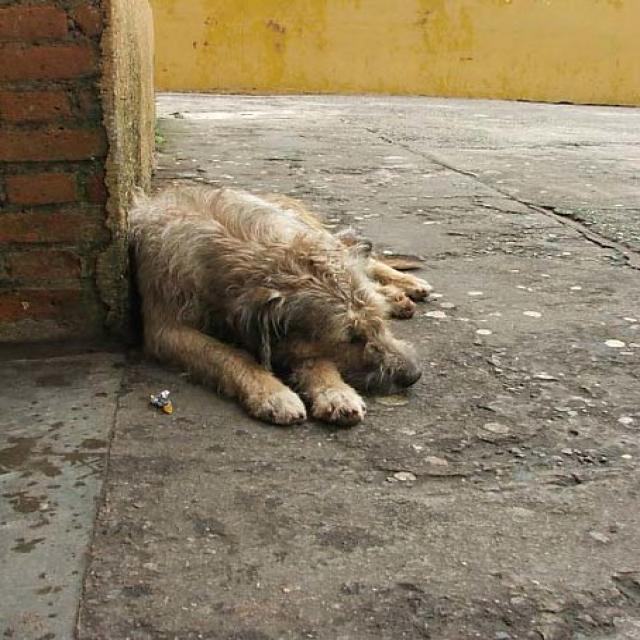laying down: (117, 176, 434, 434)
